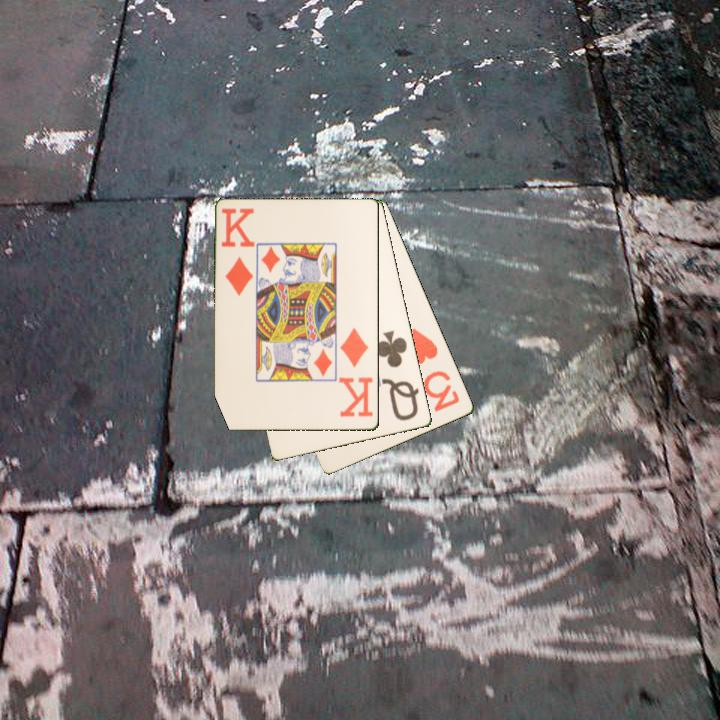3h: (406, 325, 463, 415)
Kd: (336, 325, 376, 420), (218, 205, 256, 299)
Qc: (372, 327, 423, 424)
